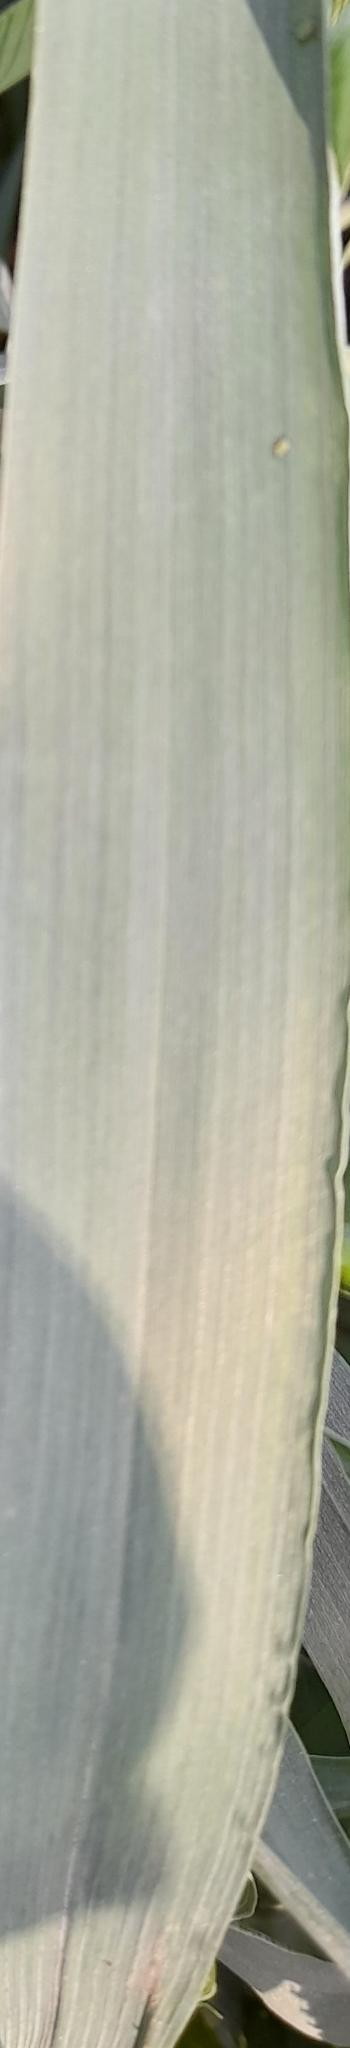Wheat: (54, 20, 300, 1344), (0, 1384, 201, 1953)
